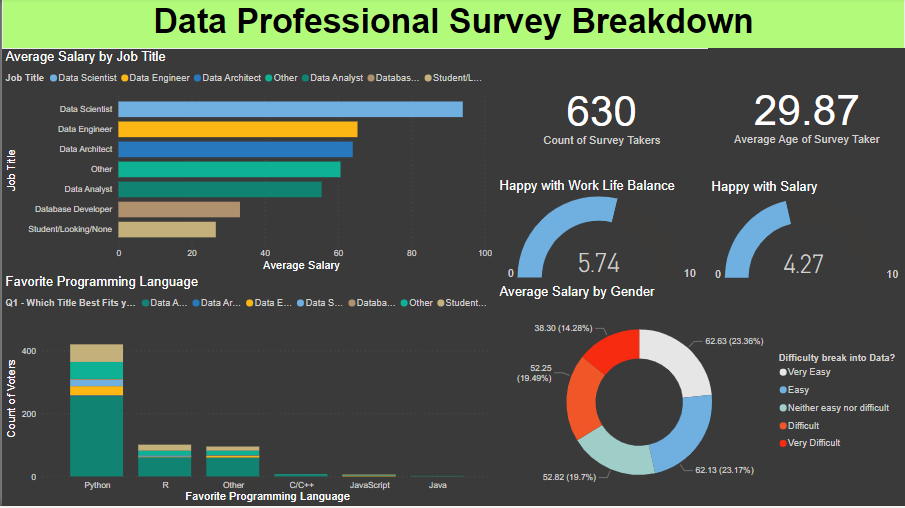

What the dashboard file says about the page in this screenshot:
{"tool":"powerbi","page":{"name":"Page 1","canvas":[1280,720],"ordinal":0},"visuals":[{"type":"textbox","box":[0,0,1280,71.8],"z":0},{"type":"card","fields":{"Values":["CountNonNull(Data Professional Survey.Unique ID)"]},"box":[700.1,71.8,299.8,183.1],"z":1000},{"type":"card","fields":{"Values":["Avg(Data Professional Survey.Q10 - Current Age)"]},"box":[1000,71.1,280,184.4],"z":2000},{"type":"barChart","title":"Average Salary by Job Title","fields":{"Category":["Data Professional Survey.Q1 - Which Title Best Fits your Current Role?.1"],"Y":["Avg(Data Professional Survey.Average Salary)"],"Series":["Data Professional Survey.Q1 - Which Title Best Fits your Current Role?.1"]},"box":[0,71.8,700.1,319.6],"z":3000},{"type":"columnChart","title":"Favorite Programming Language","fields":{"Category":["Data Professional Survey.Q5 - Favorite Programming Language.1"],"Y":["CountNonNull(Data Professional Survey.Unique ID)"],"Series":["Data Professional Survey.Q1 - Which Title Best Fits your Current Role?.1"]},"box":[0,391.4,700.1,328.5],"z":4000},{"type":"gauge","title":"Happy with Work Life Balance","fields":{"Y":["Avg(Data Professional Survey.Q6 - How Happy are you in your Current Position with the following? (Work/Life Balance))"],"MinValue":["Min(Data Professional Survey.Q6 - How Happy are you in your Current Position with the following? (Work/Life Balance))1"],"MaxValue":["Max(Data Professional Survey.Q6 - How Happy are you in your Current Position with the following? (Work/Life Balance))2"]},"box":[700,255.6,300,151.1],"z":5000},{"type":"gauge","title":"Happy with Salary","fields":{"Y":["Avg(Data Professional Survey.Q6 - How Happy are you in your Current Position with the following? (Salary))"],"MinValue":["Min(Data Professional Survey.Q6 - How Happy are you in your Current Position with the following? (Salary))1"],"MaxValue":["Max(Data Professional Survey.Q6 - How Happy are you in your Current Position with the following? (Salary))2"]},"box":[1000,256,280,152],"z":6000},{"type":"donutChart","title":"Average Salary by Gender","fields":{"Category":["Data Professional Survey.Q7 - How difficult was it for you to break into Data?"],"Y":["Avg(Data Professional Survey.Average Salary)"],"Series":["Data Professional Survey.Q7 - How difficult was it for you to break into Data?"]},"box":[700.1,405.7,579.9,314.2],"z":7000}]}

Visuals, with their boxes in screenshot pixels (x1, y1, x2, y2), scaled from the page's 1280x720 canvas onto the 905x508 screenshot:
textbox: x1=0, y1=0, x2=904, y2=51
card - CountNonNull(Data Professional Survey.Unique ID): x1=495, y1=51, x2=707, y2=180
card - Avg(Data Professional Survey.Q10 - Current Age): x1=707, y1=50, x2=904, y2=180
"Average Salary by Job Title" barChart: x1=0, y1=51, x2=495, y2=276
"Favorite Programming Language" columnChart: x1=0, y1=276, x2=495, y2=507
"Happy with Work Life Balance" gauge: x1=495, y1=180, x2=707, y2=287
"Happy with Salary" gauge: x1=707, y1=181, x2=904, y2=288
"Average Salary by Gender" donutChart: x1=495, y1=286, x2=904, y2=507
